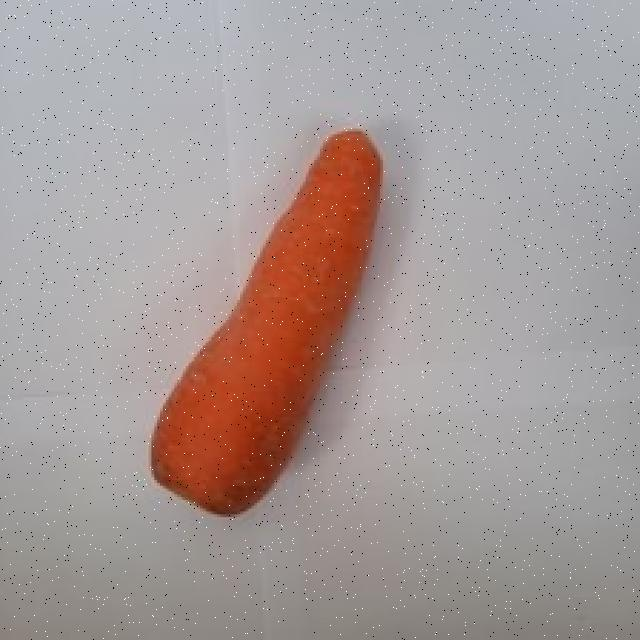carrot: (149, 129, 377, 509)
